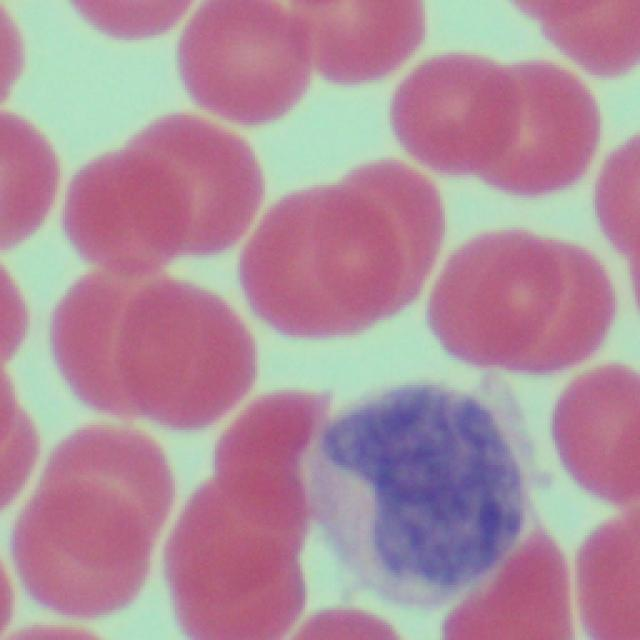RBC: (62, 110, 258, 296), (45, 266, 251, 439), (14, 412, 166, 622), (383, 50, 596, 198), (422, 212, 603, 371), (168, 458, 306, 639), (253, 183, 409, 341), (322, 154, 442, 299), (170, 3, 310, 126), (446, 516, 575, 639), (546, 364, 638, 505), (285, 0, 420, 85), (0, 97, 56, 260), (571, 514, 640, 639), (530, 0, 638, 75), (595, 126, 640, 291), (62, 0, 197, 42)
WBC: (307, 364, 533, 612)
